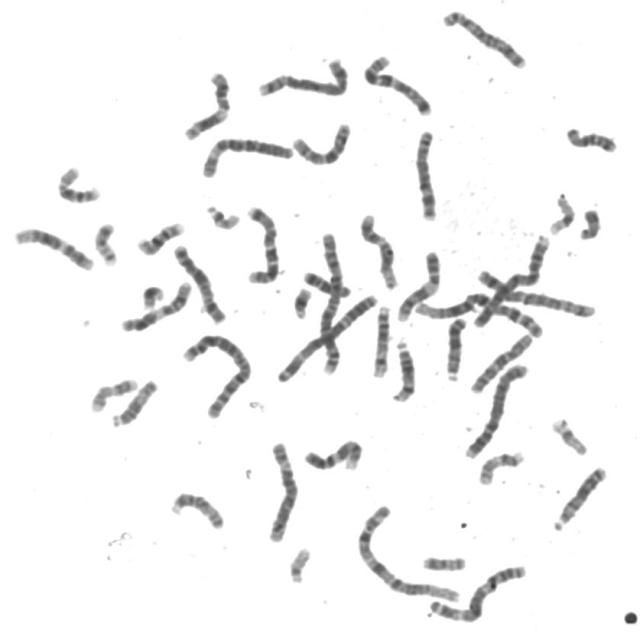A1: (351, 499, 464, 604), (408, 287, 546, 339)
A2: (175, 327, 254, 421), (314, 223, 346, 376)
A3: (272, 288, 382, 384), (423, 559, 528, 624)
B4: (466, 228, 553, 329), (460, 357, 530, 461)
B5: (472, 264, 598, 320), (252, 52, 351, 99)
C10: (465, 329, 535, 395), (285, 116, 354, 168)
C11: (114, 275, 194, 334), (177, 66, 233, 142)
C12: (8, 220, 96, 272), (355, 208, 400, 290)
C6: (196, 130, 295, 180), (262, 436, 300, 544)
C7: (358, 48, 434, 118), (239, 200, 282, 286)
C8: (436, 5, 528, 70), (409, 124, 440, 223)
C9: (392, 245, 442, 322), (298, 434, 366, 473)
D13: (546, 459, 608, 533), (440, 310, 470, 382)
D14: (386, 334, 418, 403), (367, 299, 392, 379)
D15: (106, 374, 159, 428), (165, 486, 226, 532)
E16: (131, 215, 187, 257), (52, 160, 102, 204)
E17: (85, 372, 140, 414), (472, 445, 527, 486)
E18: (560, 121, 620, 154), (298, 265, 354, 298)
F19: (546, 412, 590, 456), (544, 188, 578, 236)
F20: (89, 217, 120, 267), (417, 550, 468, 572)
G21: (288, 281, 314, 321), (135, 280, 167, 310)
G22: (200, 199, 242, 231), (284, 541, 314, 585)
X: (167, 238, 228, 326)
Y: (574, 202, 604, 241)
